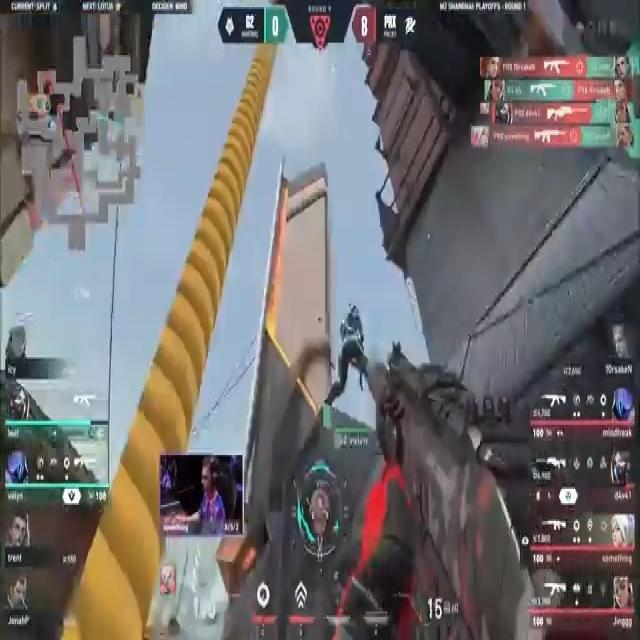ally: (328, 295, 381, 416)
